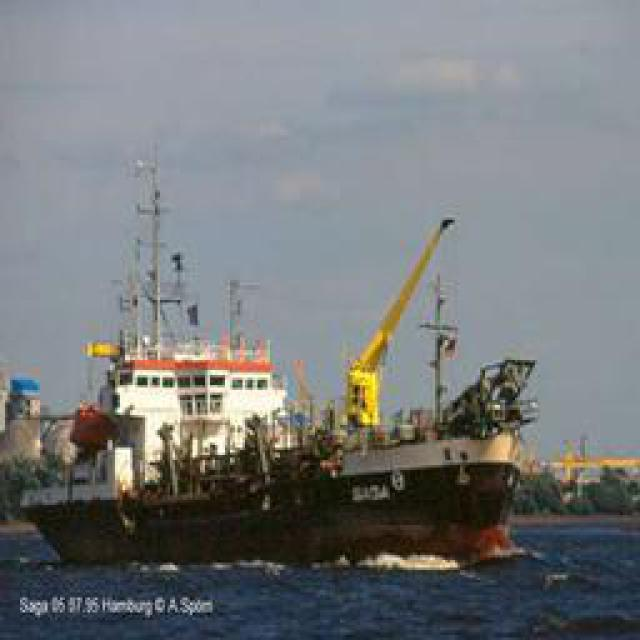Ship: (50, 150, 535, 568)
